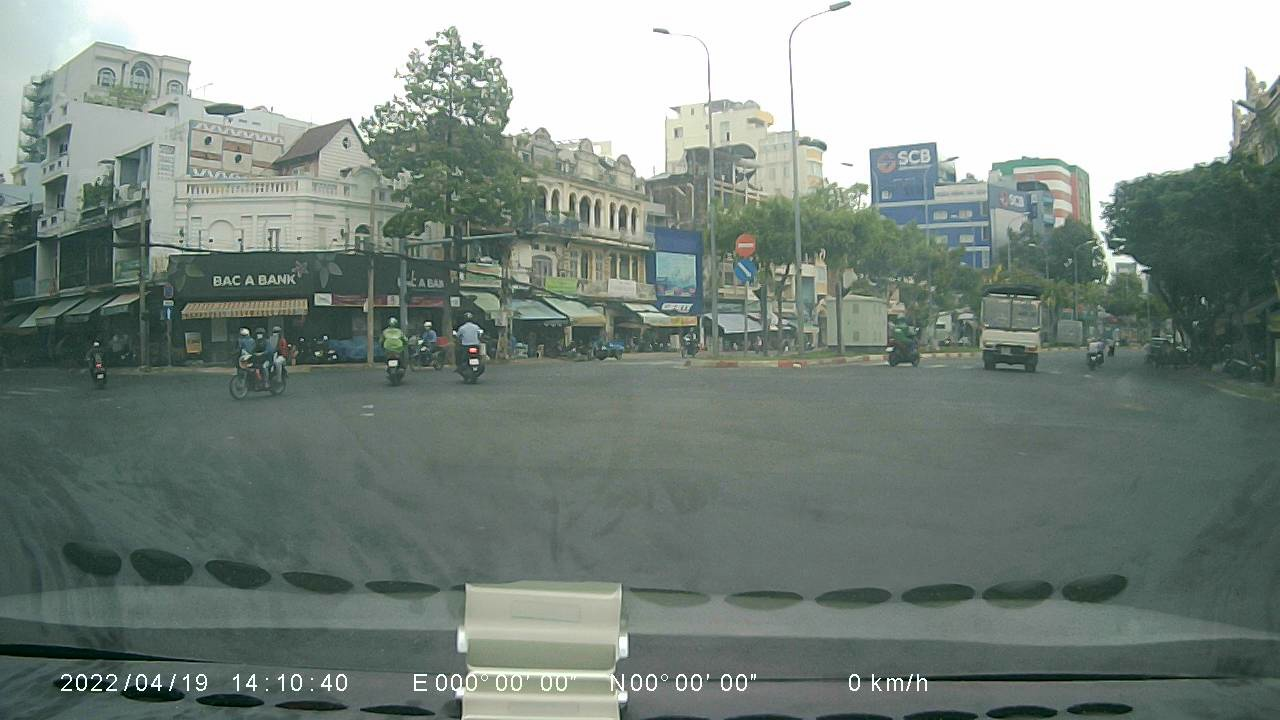Cam di nguoc chieu: (732, 230, 756, 255)
Huong di phai re phai: (732, 260, 756, 284)
